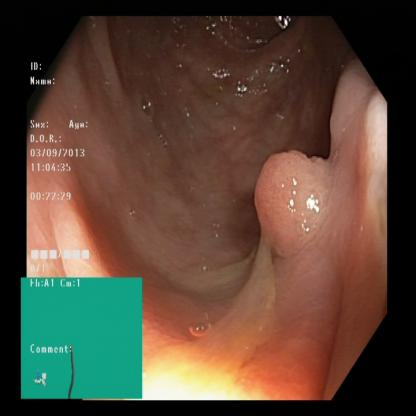Labels: (27, 59, 108, 277), (22, 281, 140, 398)
Polyps: (248, 147, 337, 259)
